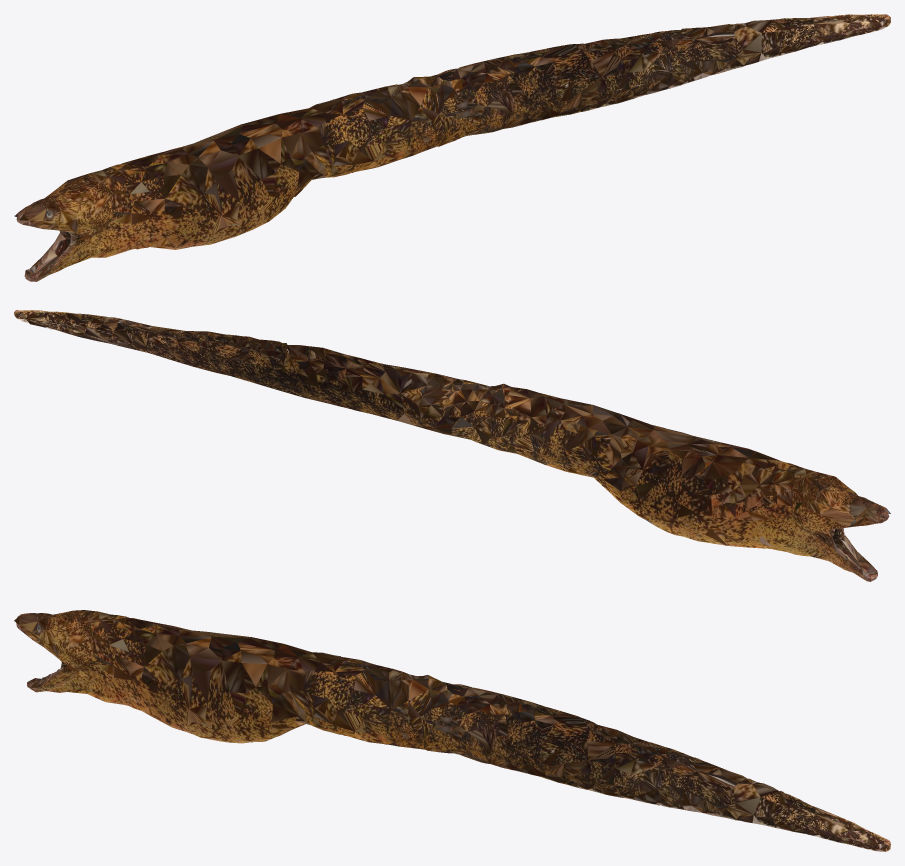
File: moray.glb
3 views of the same model, one above another, from view 1: azimuth 30°, elevation 25°; view 2: azimuth 150°, elevation 25°; view 3: azimuth 330°, elevation 25° (orthographic).
Visible parts, largest first — view 1: body; view 2: body; view 3: body.
Part boxes in pixels (x1,y1,x2,y2): body: (14,14,890,281); body: (14,310,890,581); body: (14,610,890,851).
Size of the model in its own units: 1 by 0.12 by 0.0667.
Materials: 4 (4 with a texture image).
